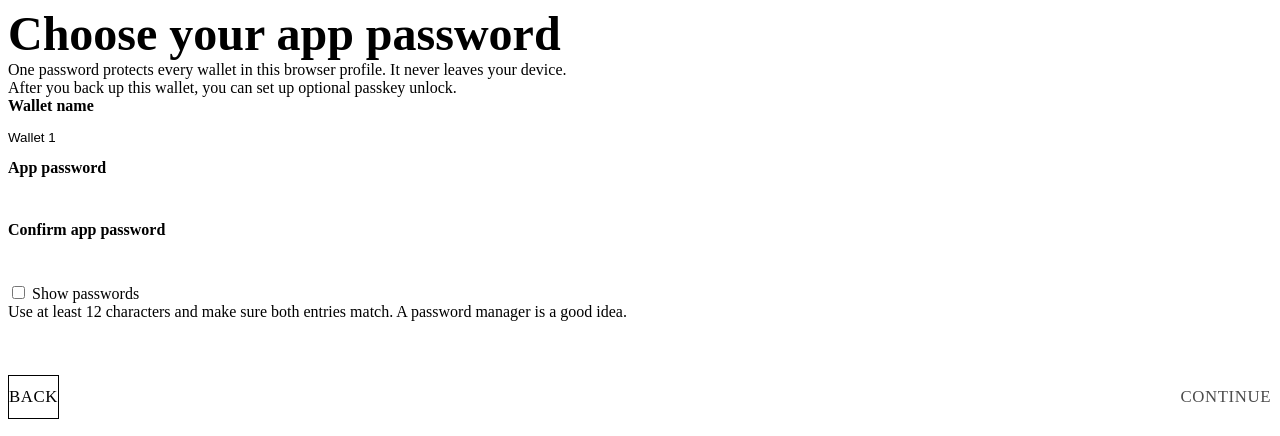
Test case: CreateFlow › keeps Continue disabled while valid password entries do not match
The image size is (1280, 436).
Type "a-long-password" into the password field labelled "App password" at (640, 199), box [8, 177, 1272, 221]
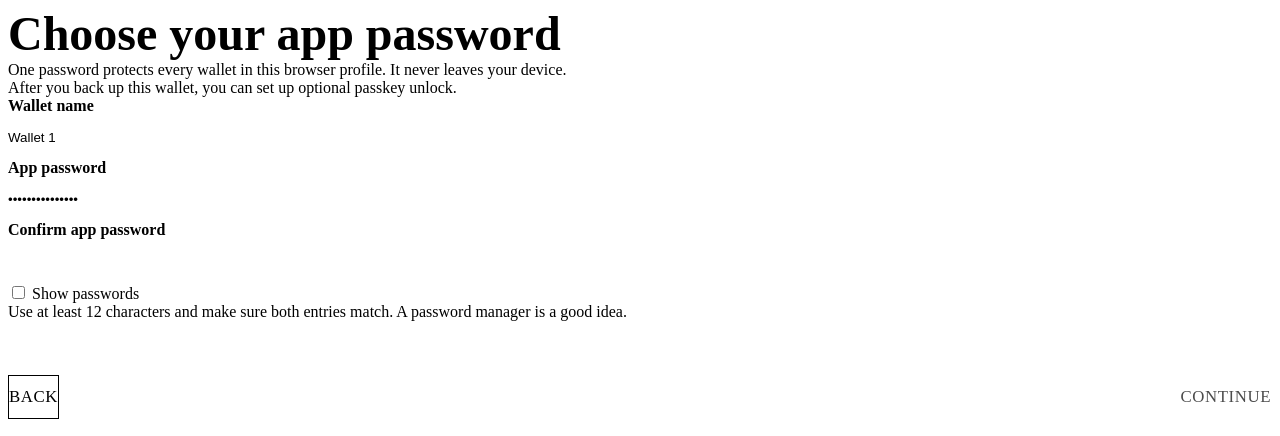
Type "a-different-password" into the password field labelled "Confirm app password" at (640, 261), box [8, 239, 1272, 283]
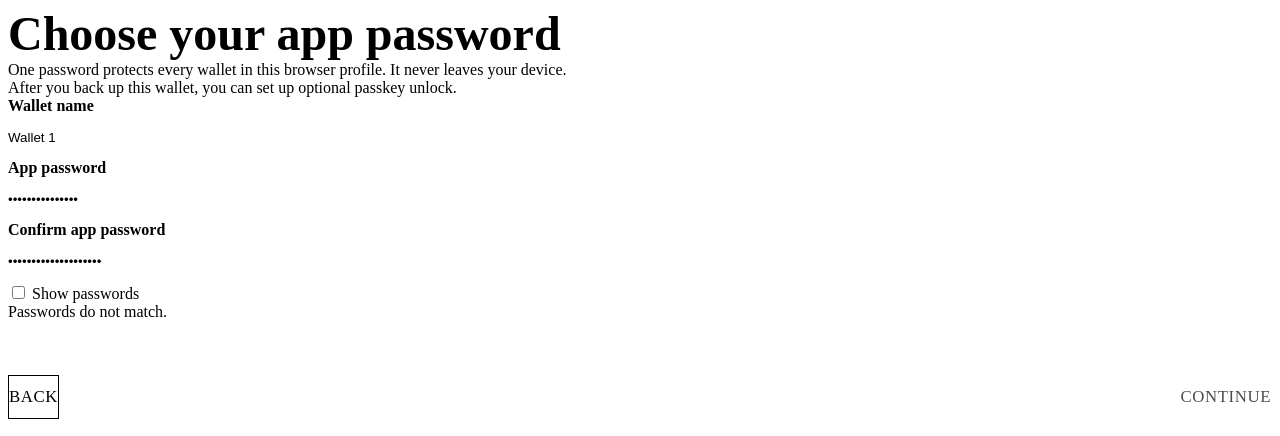
Expected: the button "Continue" is disabled, [1180, 375, 1272, 419]
Result: the message reads "Passwords do not match." at [8, 303, 167, 320]
